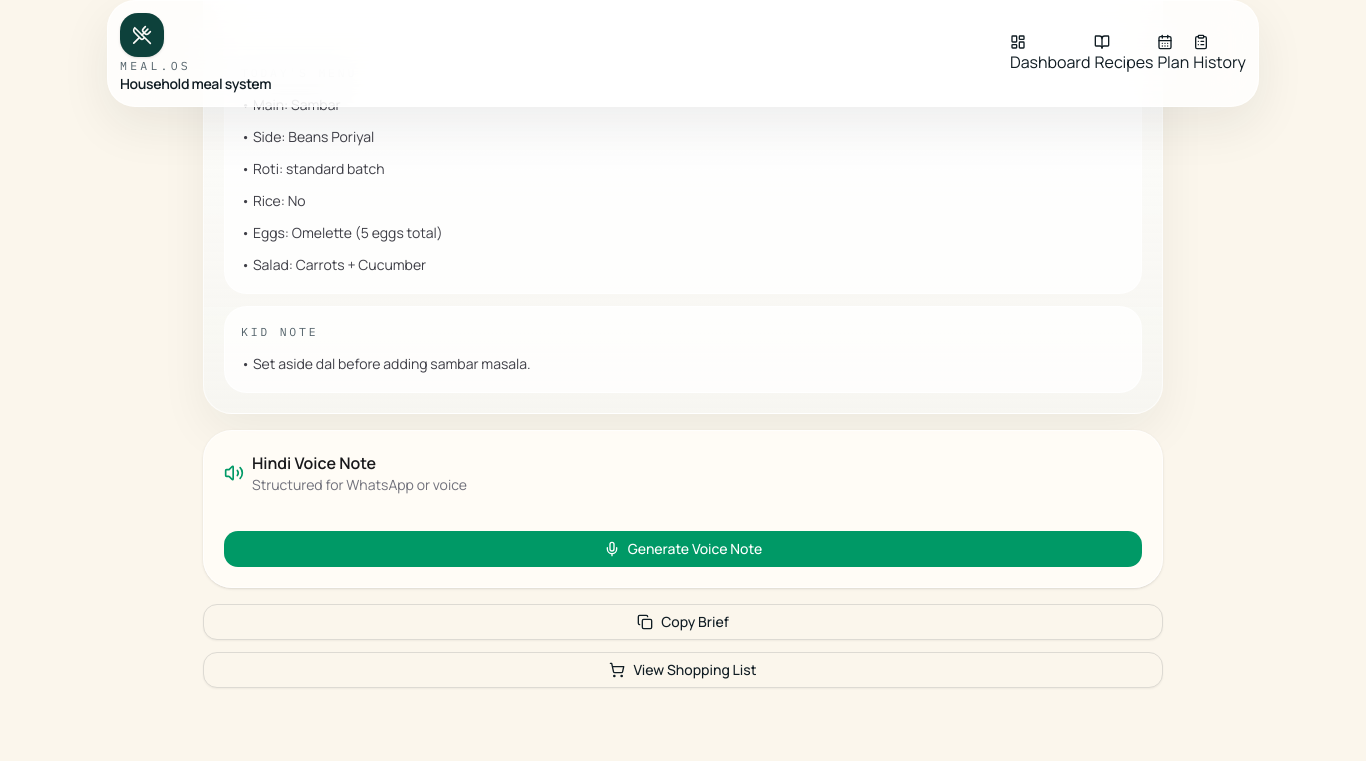
Test: CookBriefPage › should show audio player and actions after voice generation
(page scrolled)
Click the button "Generate Voice Note": {"x": 683, "y": 549} [224, 531, 1142, 567]
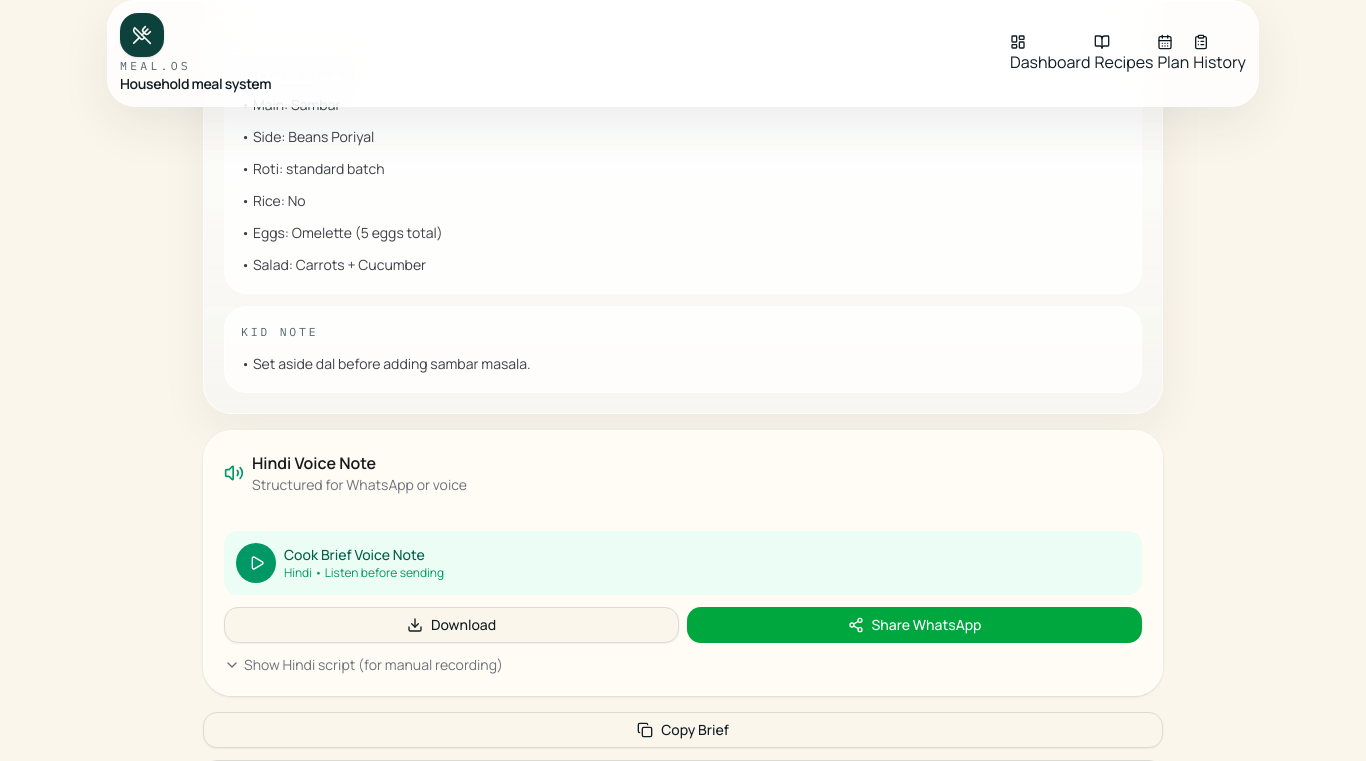
Result: the text "Cook Brief Voice Note" is shown at [284, 545, 425, 564]
Result: the button "Download" is shown at [224, 607, 679, 643]
Result: the button "Share WhatsApp" is shown at [687, 607, 1142, 643]
